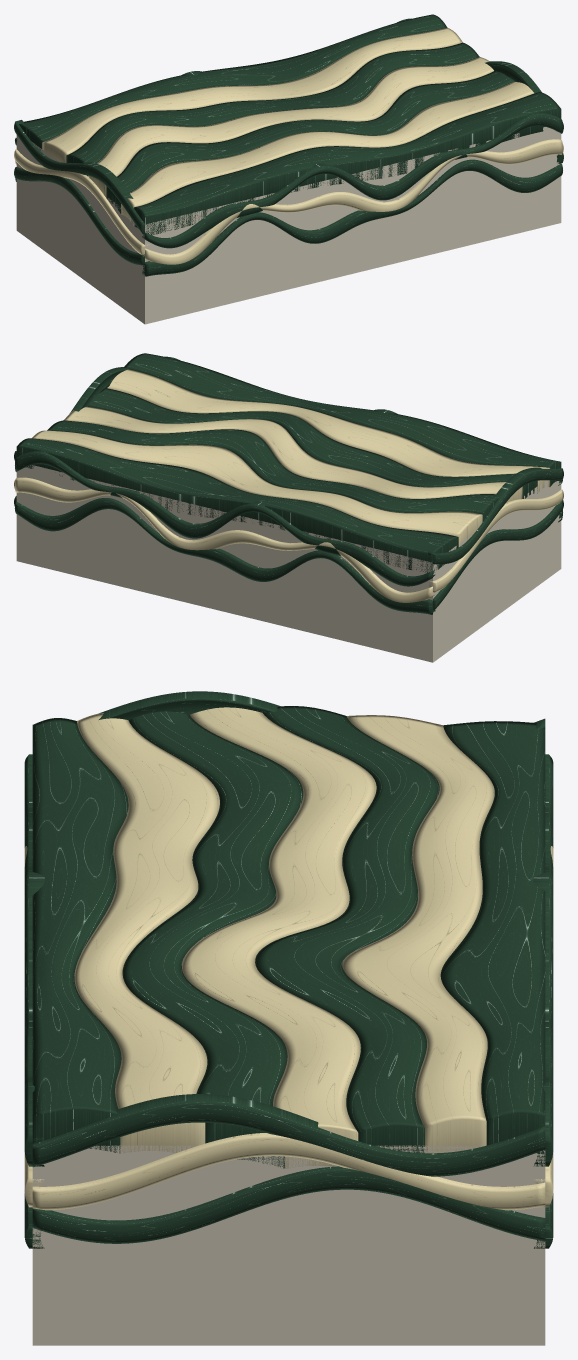
File: O37_coffee_reference.glb
The picture shows the model from 3 angles, top to bottom: view 1: azimuth 30°, elevation 25°; view 2: azimuth 150°, elevation 25°; view 3: azimuth 270°, elevation 25°; orthographic projection. The views are drawn at different scales.
Visible parts, largest first — view 1: Limestone supporting block, Wavy interlocking top inlays 0, Wavy interlocking top inlays 1, Carved ribbon relief 0, Carved ribbon relief 1; view 2: Limestone supporting block, Wavy interlocking top inlays 0, Wavy interlocking top inlays 1, Carved ribbon relief 0, Carved ribbon relief 1; view 3: Wavy interlocking top inlays 0, Wavy interlocking top inlays 1, Limestone supporting block, Carved ribbon relief 0, Carved ribbon relief 1.
Boxes of the visible parts, x1,y1,x2,y2 form: Limestone supporting block: (16,127,561,324); Wavy interlocking top inlays 0: (16,14,561,235); Wavy interlocking top inlays 1: (42,28,534,225); Carved ribbon relief 0: (14,18,563,276); Carved ribbon relief 1: (14,139,563,264); Limestone supporting block: (16,465,561,662); Wavy interlocking top inlays 0: (16,353,561,573); Wavy interlocking top inlays 1: (32,369,550,547); Carved ribbon relief 0: (14,356,563,614); Carved ribbon relief 1: (14,477,563,602); Wavy interlocking top inlays 0: (32,706,545,1168); Wavy interlocking top inlays 1: (74,707,494,1168); Limestone supporting block: (32,1145,545,1345); Carved ribbon relief 0: (24,691,553,1248); Carved ribbon relief 1: (24,846,553,1210).
Size of the model in its own units: 1.37 by 0.382 by 0.742.
Materials: 3 (2 with a texture image).
